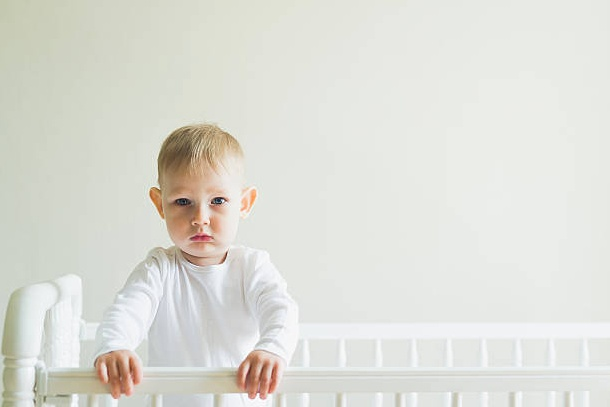baby: (95, 124, 297, 405)
crib: (273, 323, 609, 406)
